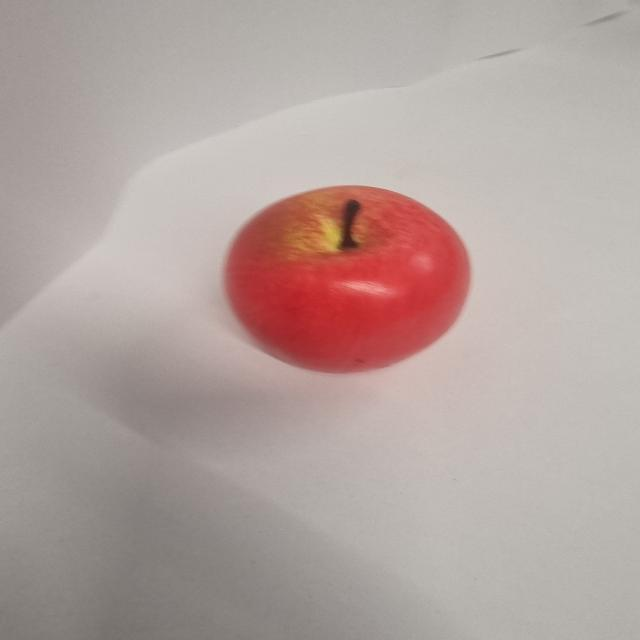apple: (226, 185, 471, 374)
